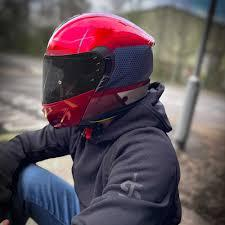Helmet: (42, 13, 153, 127)
